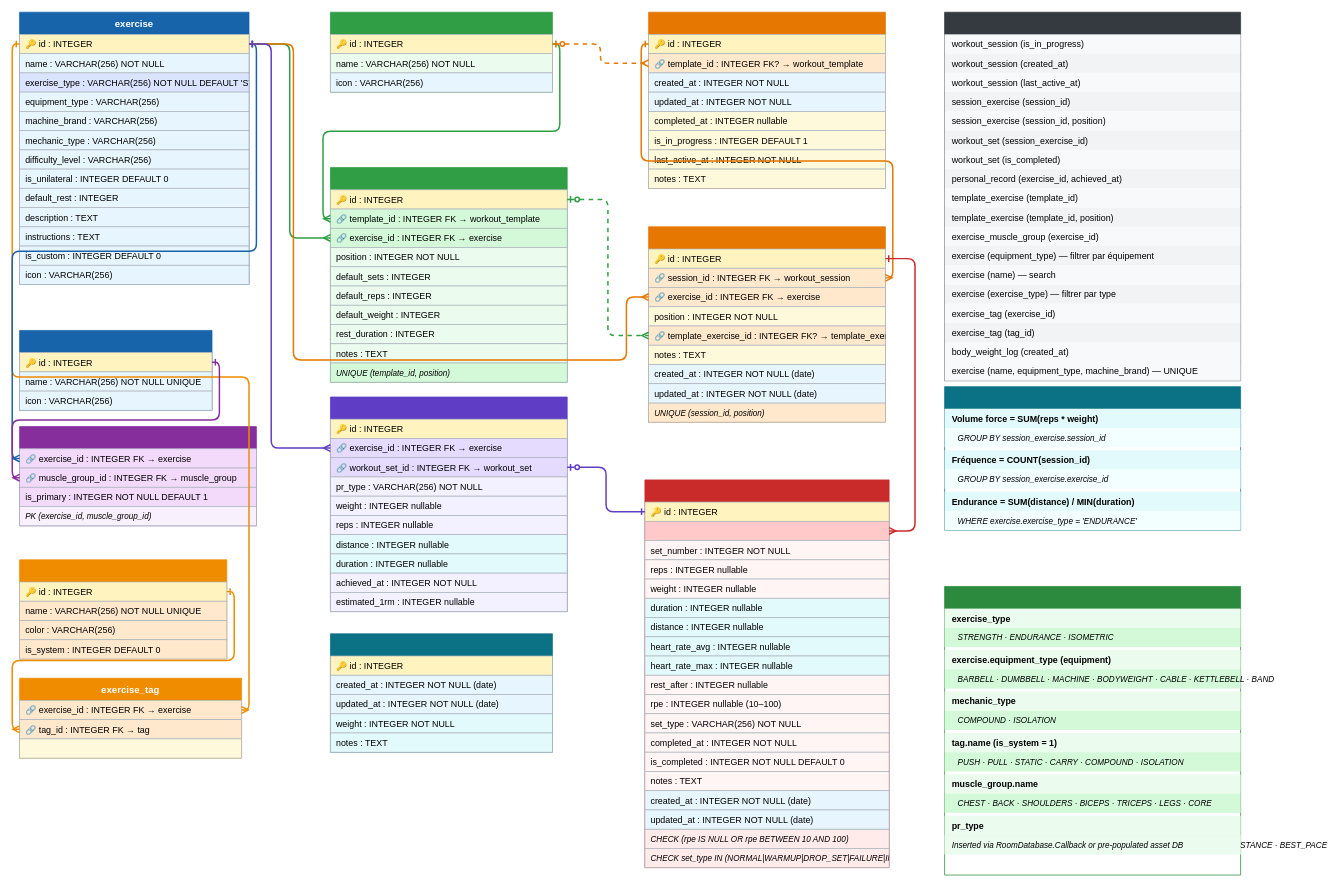
The diagram is 1340 pixels wide and 887 high, and some of its shapes have lost their labels. The shapes that lost their labels are listed below. From the top down, each one's box as (x1, y1, x2, y2) in pixels, then its label:
(330, 11, 552, 92): workout_template
(648, 11, 885, 188): workout_session
(944, 11, 1241, 381): 📇 INDEXES
(330, 167, 567, 382): template_exercise
(648, 226, 885, 422): session_exercise
(19, 330, 212, 410): muscle_group
(19, 426, 256, 526): exercise_muscle_group
(944, 386, 1241, 530): 📊 ANALYTICS (local SQLite)
(330, 396, 567, 612): personal_record
(644, 521, 889, 541): 🔗 session_exercise_id : INTEGER FK → session_exercise
(19, 559, 227, 659): tag
(330, 633, 552, 752): body_weight_log
(644, 479, 889, 868): workout_set
(19, 738, 242, 758): PK (exercise_id, tag_id)
(944, 586, 1241, 875): 🌱 SEED DATA / ENUM VALUES
